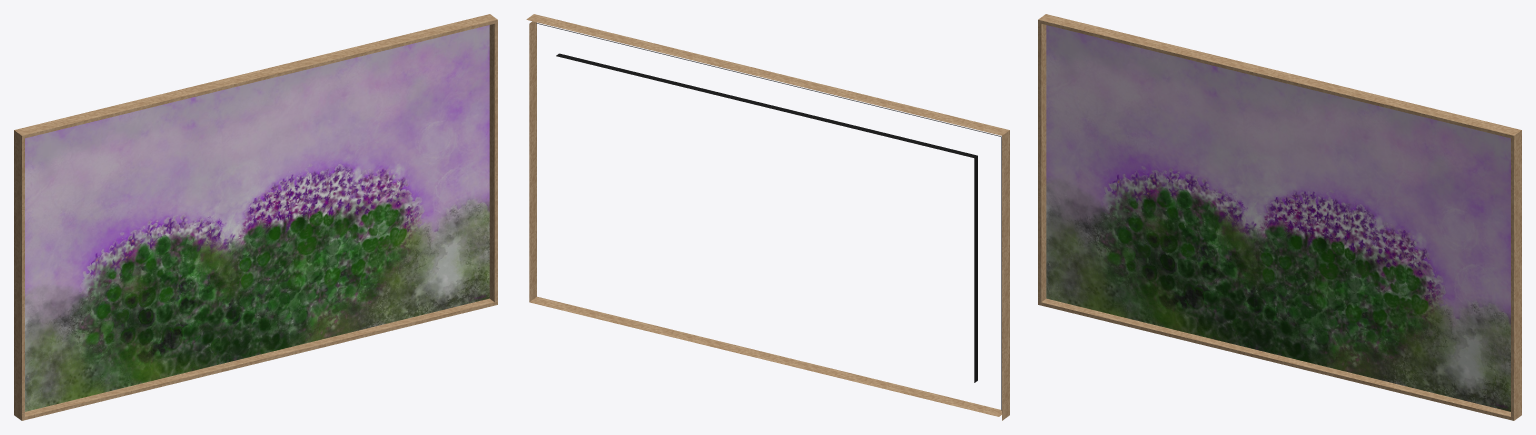
File: hz057_grand_caisse-chene.glb
3 views of the same model, side by side, from view 1: azimuth 30°, elevation 25°; view 2: azimuth 150°, elevation 25°; view 3: azimuth 330°, elevation 25° (orthographic).
Visible parts, largest first — view 1: hz057_grand_caisse-chene; view 2: hz057_grand_caisse-chene; view 3: hz057_grand_caisse-chene.
Part boxes in pixels (x1,y1,x2,y2): hz057_grand_caisse-chene: (14, 14, 497, 420); hz057_grand_caisse-chene: (526, 14, 1009, 420); hz057_grand_caisse-chene: (1038, 14, 1521, 420).
Bounding box in the file's own units: 1.23 × 0.703 × 0.035.
Materials: 4 (2 with a texture image).
